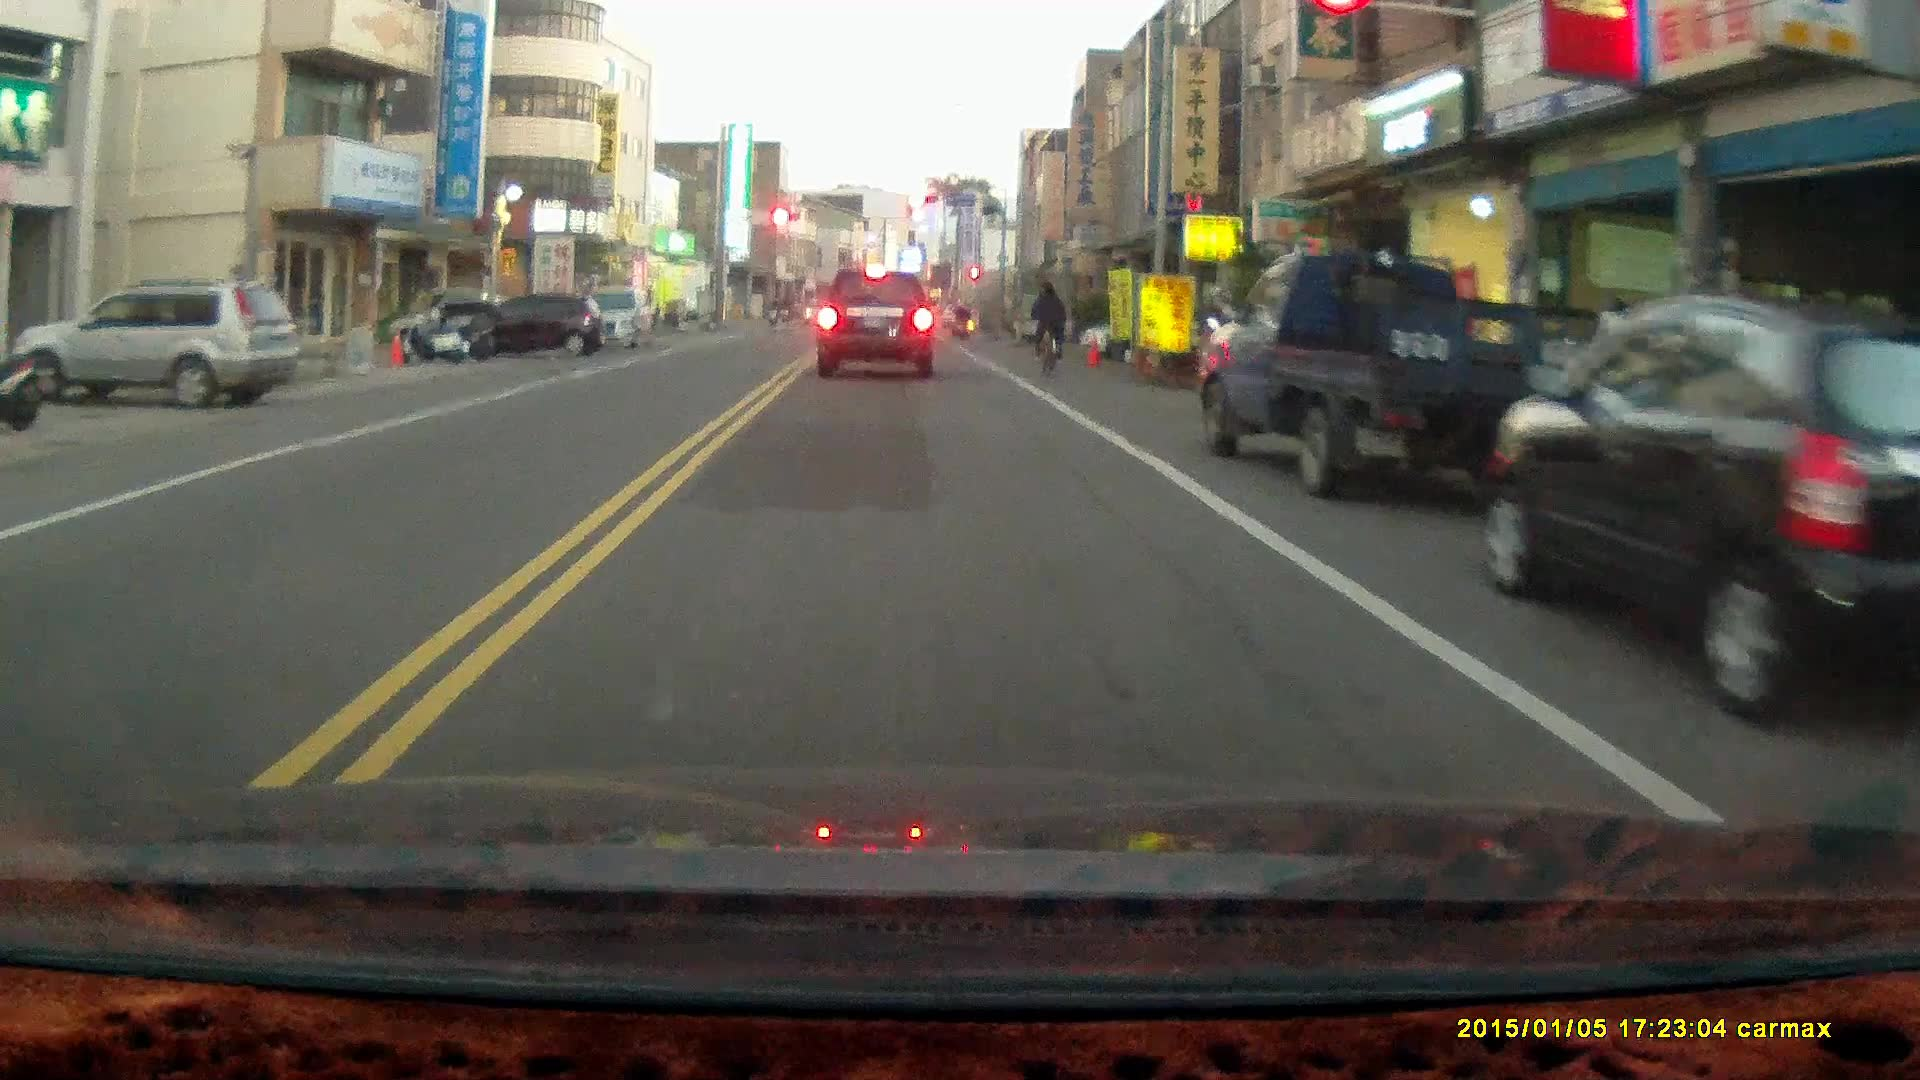rider: (1029, 277, 1068, 379)
vehicle: (1491, 295, 1920, 721), (1188, 245, 1611, 492), (7, 278, 298, 407), (818, 268, 940, 379), (455, 293, 608, 358), (554, 284, 655, 351)
